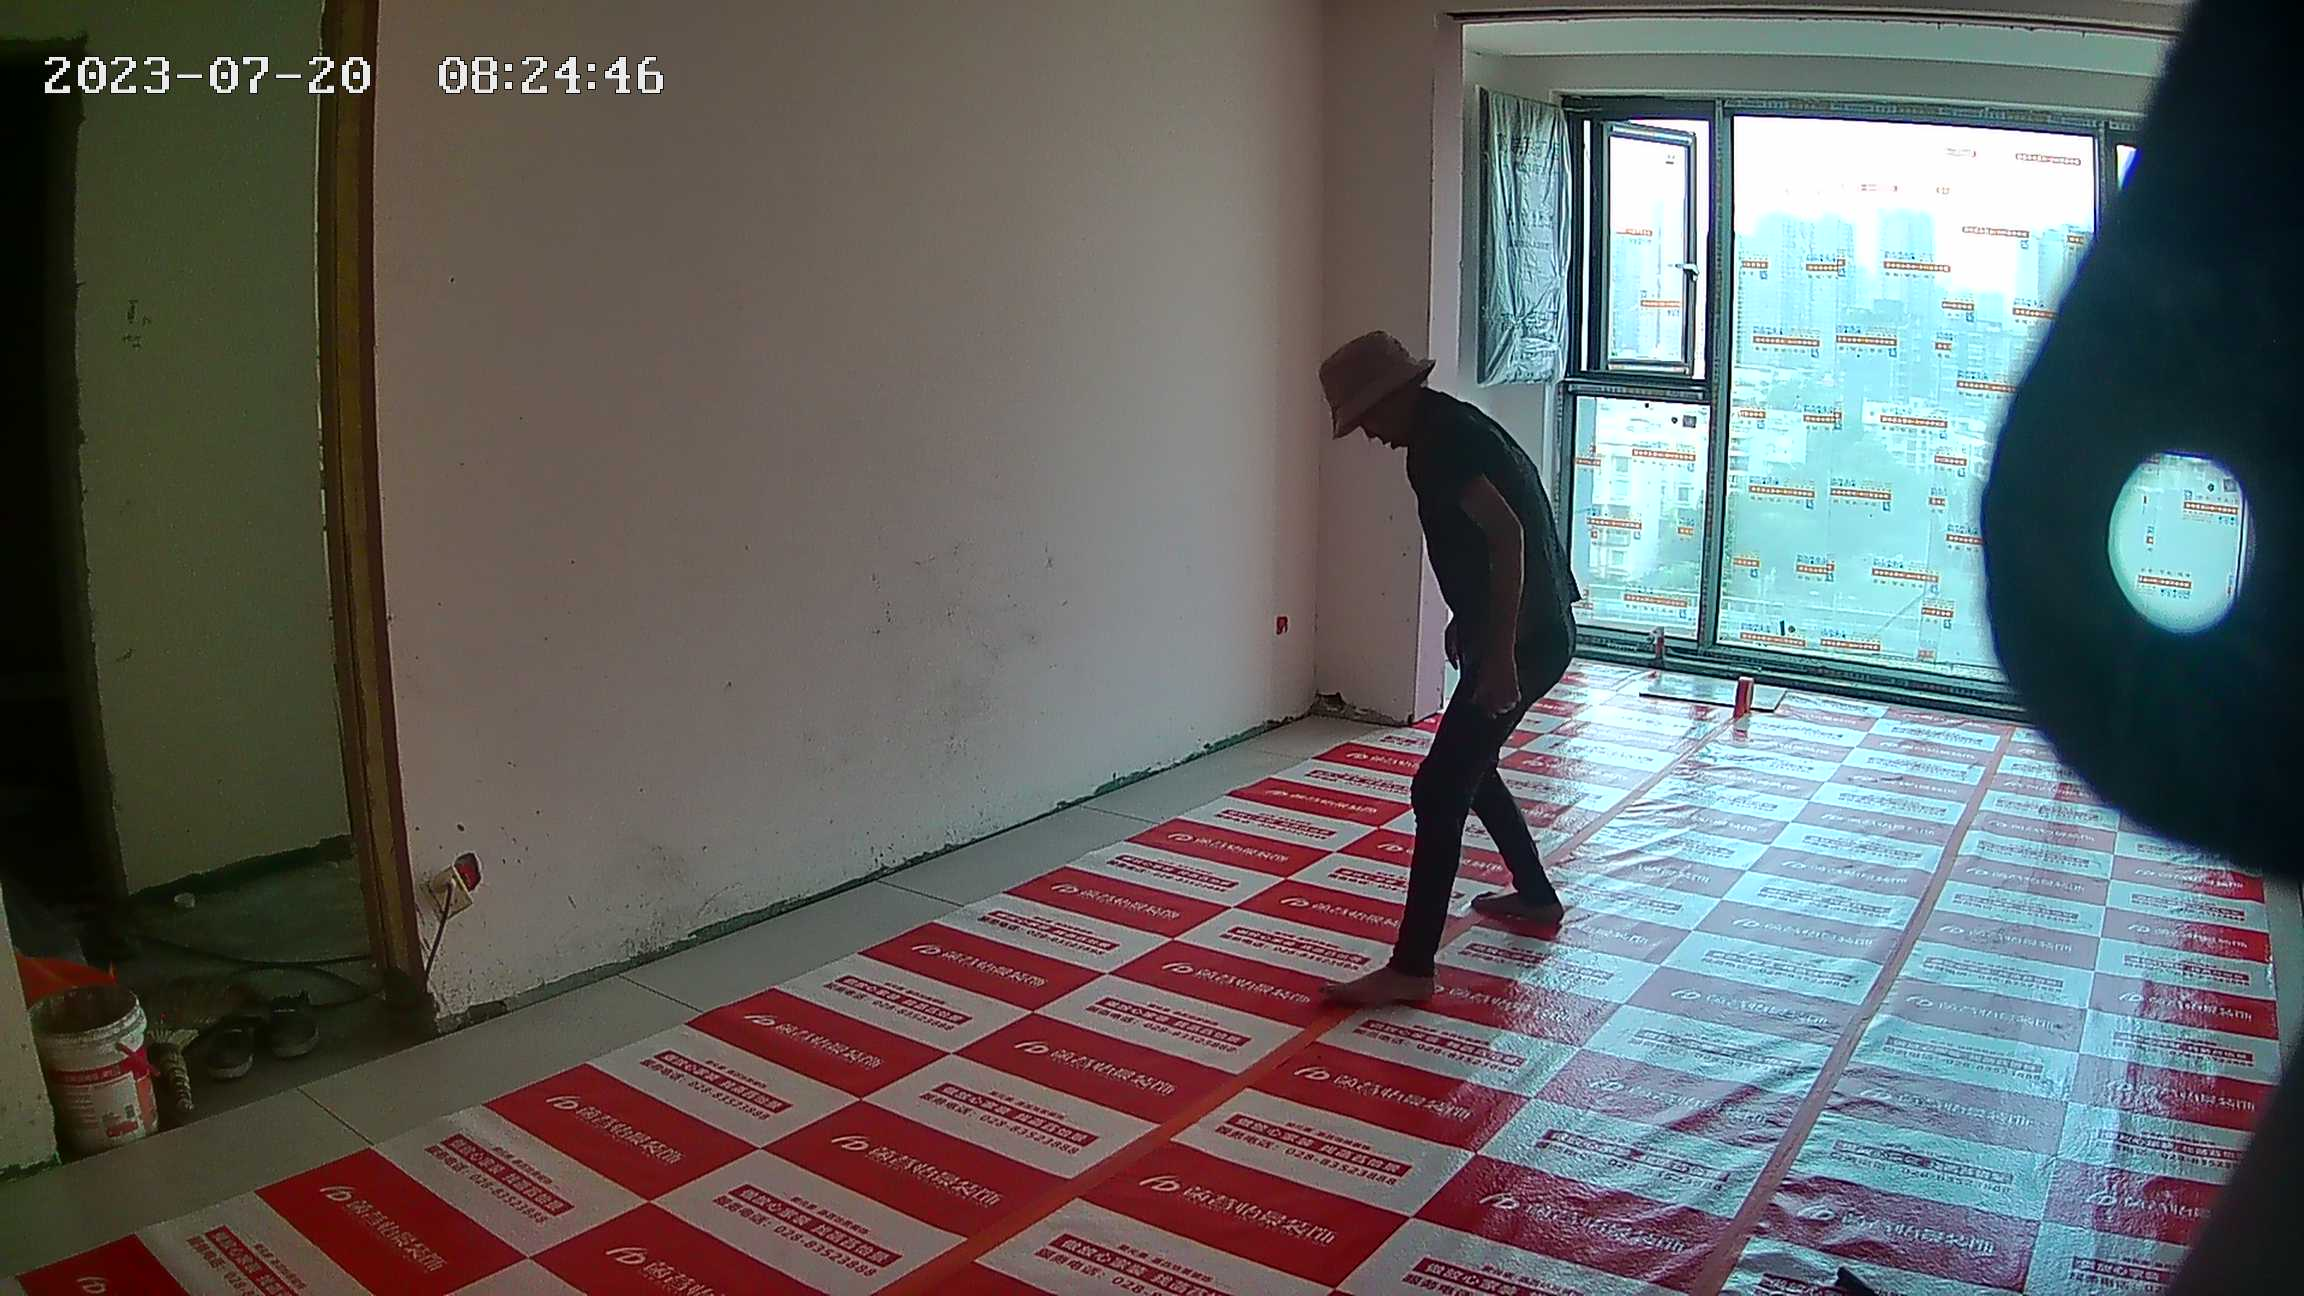people: (1300, 329, 1587, 1008)
window: (1552, 90, 2253, 691)
